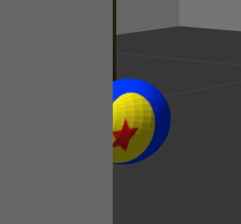toy story ball: (112, 78, 171, 165)
